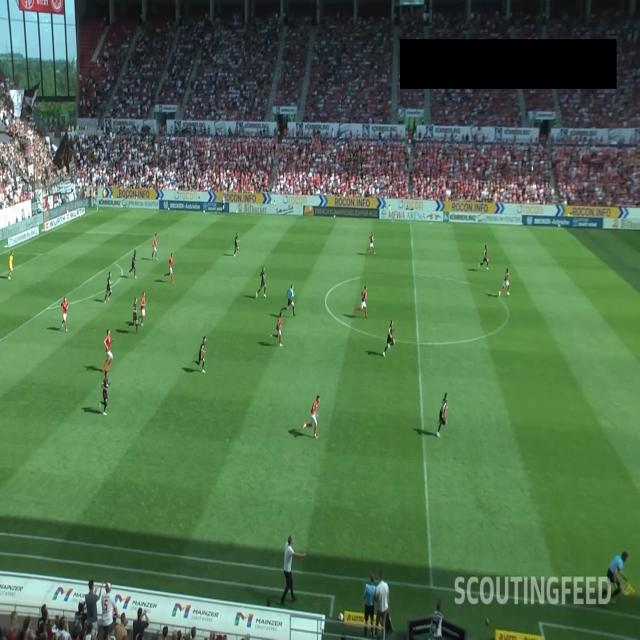ball: (530, 166, 534, 171)
